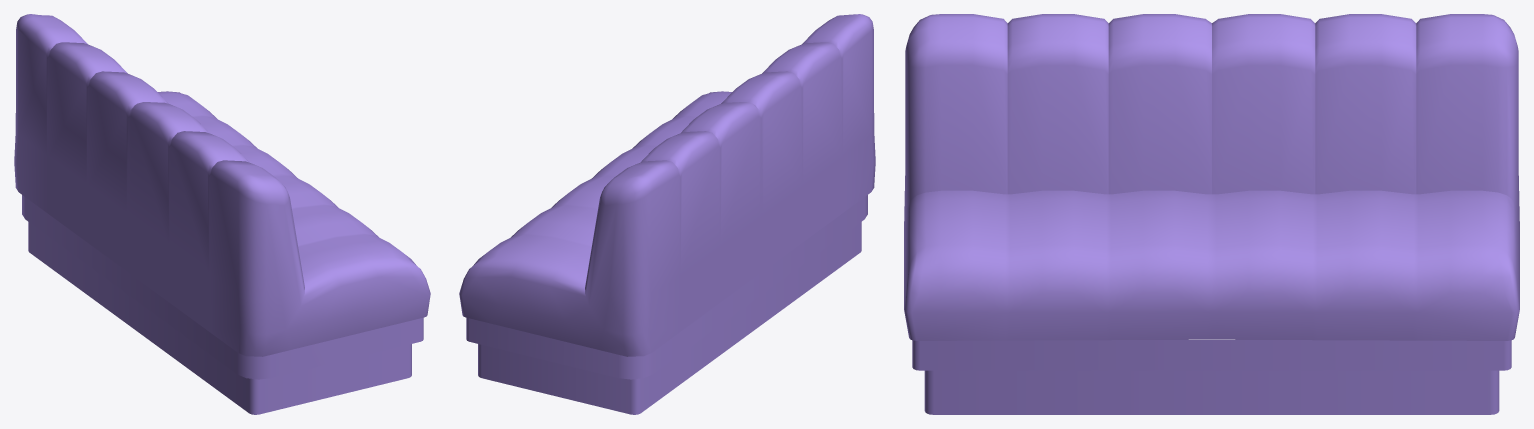
Rendered from Bank.fbx.
3 views of the same model, side by side, from view 1: azimuth 30°, elevation 25°; view 2: azimuth 150°, elevation 25°; view 3: azimuth 270°, elevation 25° (orthographic). The views are drawn at different scales.
Parts seen in each view (by area): view 1: Bank; view 2: Bank; view 3: Bank.
Part boxes in pixels (<box>): Bank: <box>14,14,430,414</box>; Bank: <box>459,14,875,414</box>; Bank: <box>904,14,1519,414</box>.
Bounding box in the file's own units: 68.13 × 84.38 × 157.
